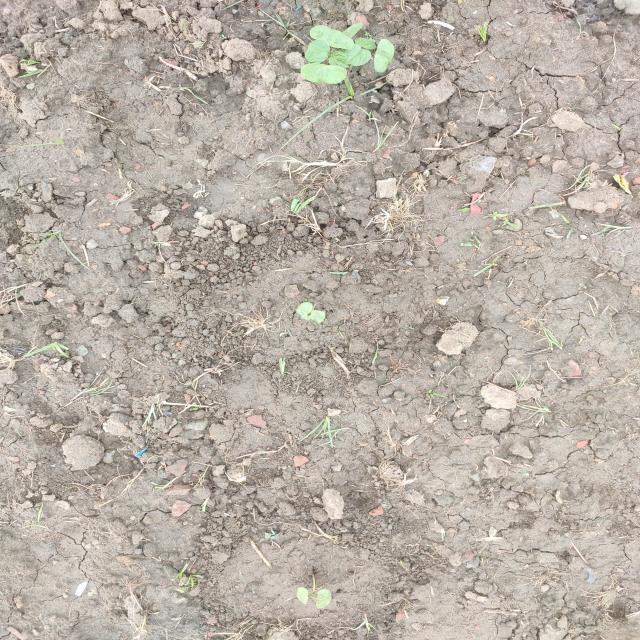seedling_s4: (310, 25, 354, 50), (300, 63, 347, 84), (374, 39, 395, 73), (339, 44, 371, 66), (305, 40, 330, 63), (329, 51, 350, 68), (342, 23, 363, 38), (316, 589, 331, 609), (295, 302, 313, 318), (303, 310, 325, 323), (355, 38, 376, 50), (296, 587, 308, 604)
